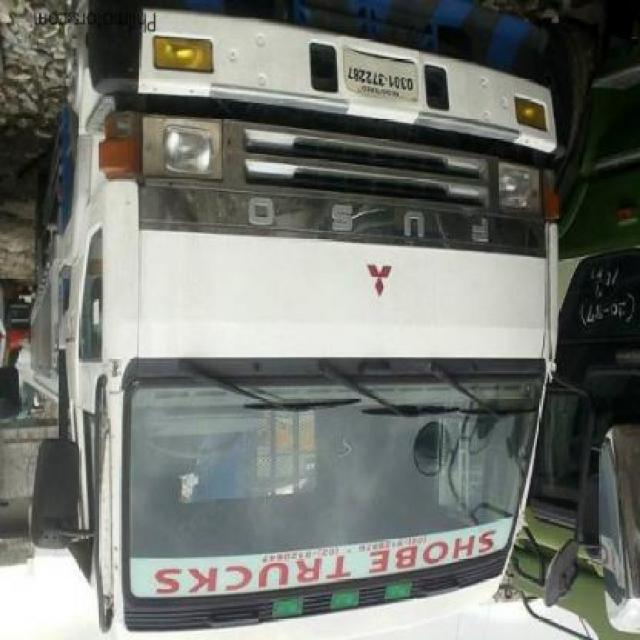truck: (25, 3, 562, 640)
